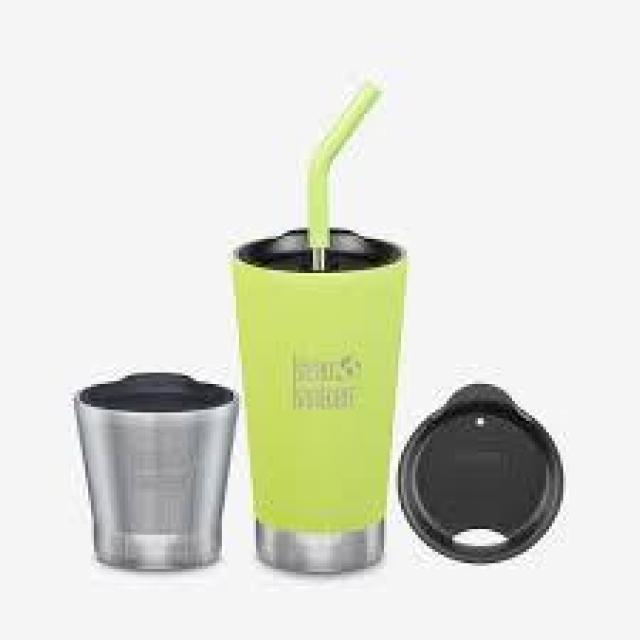bottle: (230, 80, 407, 578)
